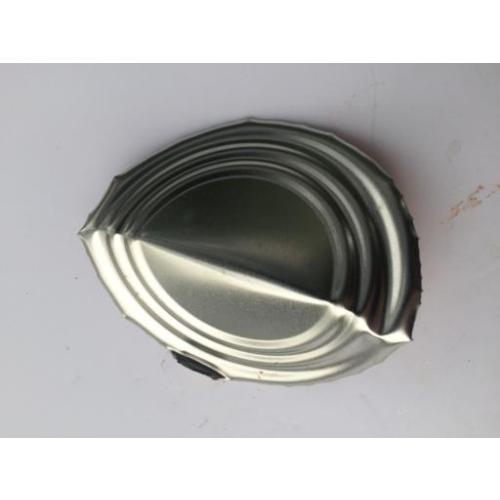metal: (80, 121, 417, 386)
